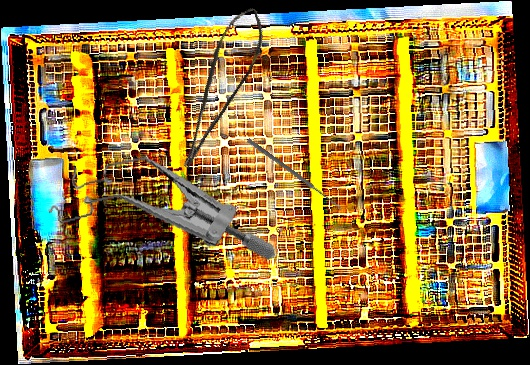Micro Scissor: (154, 0, 280, 173)
Speculum: (41, 134, 276, 297)
Surgical Spoon: (246, 138, 344, 211)
